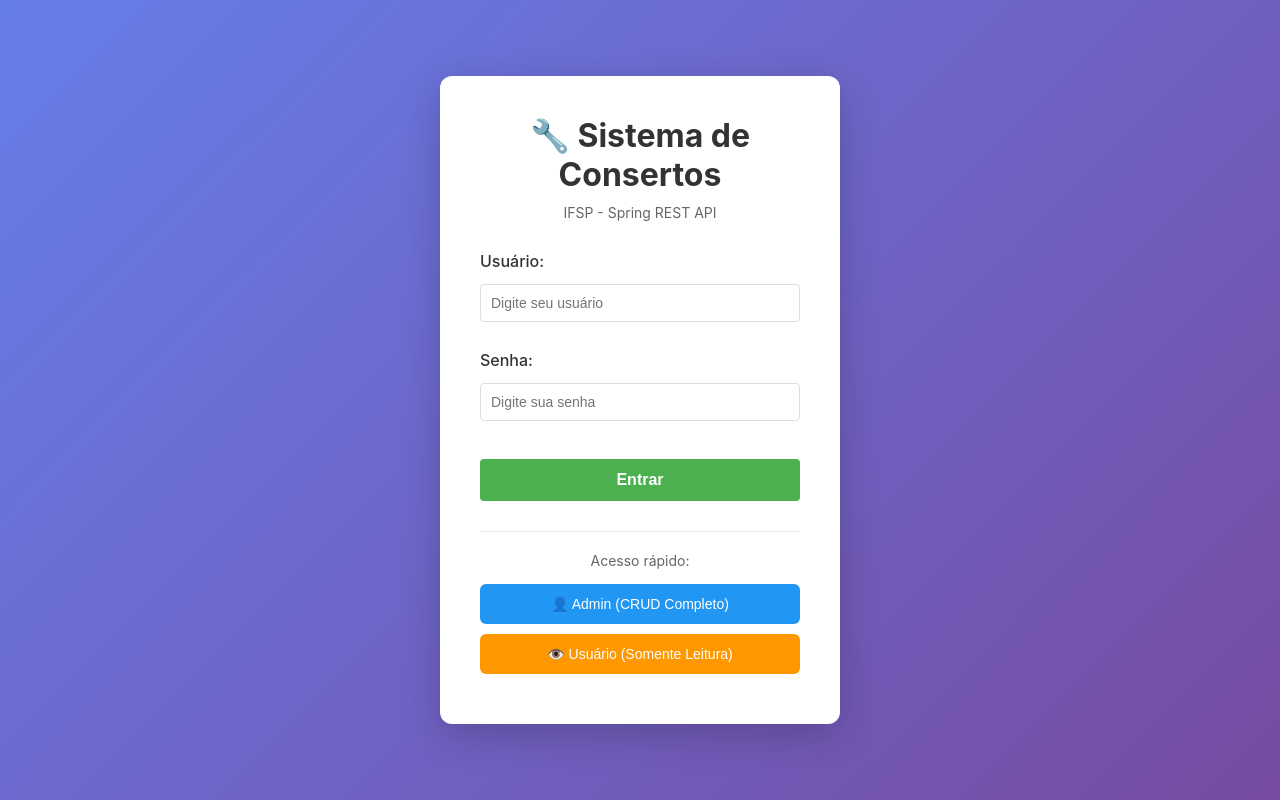
Scenario: Login Component - Unit Tests › Form Validation › should show error when submitting empty form
The width and height of the screenshot is (1280, 800).
Click the button "Entrar" at [640, 480], box x1=480 y1=459 x2=800 y2=501
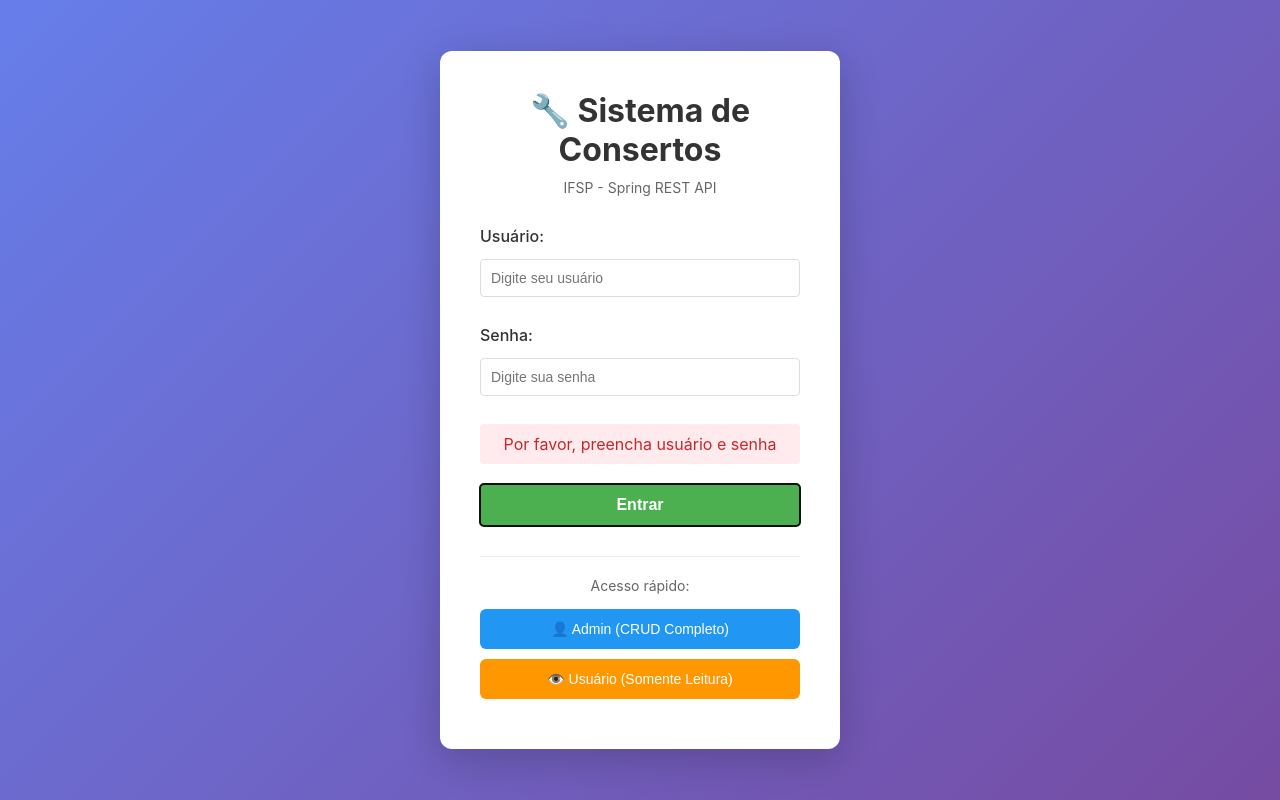
Check: the text "Por favor, preencha usuário e senha" is shown, box x1=480 y1=424 x2=800 y2=464
